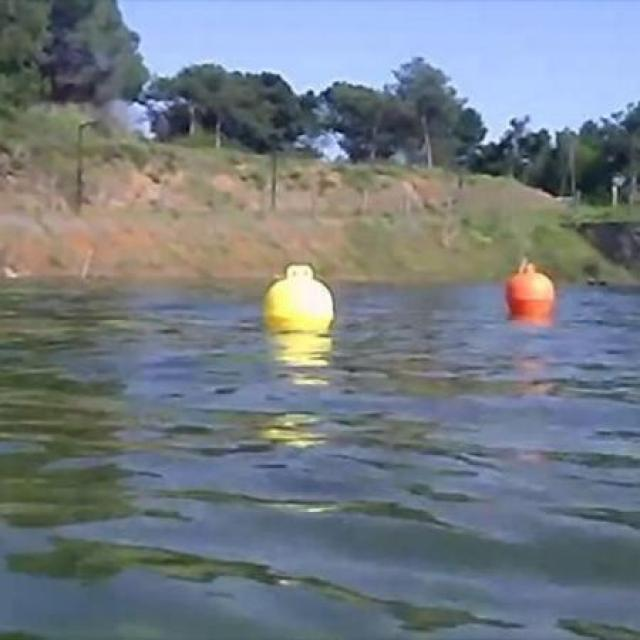buoy: (266, 262, 334, 331), (505, 262, 556, 318)
